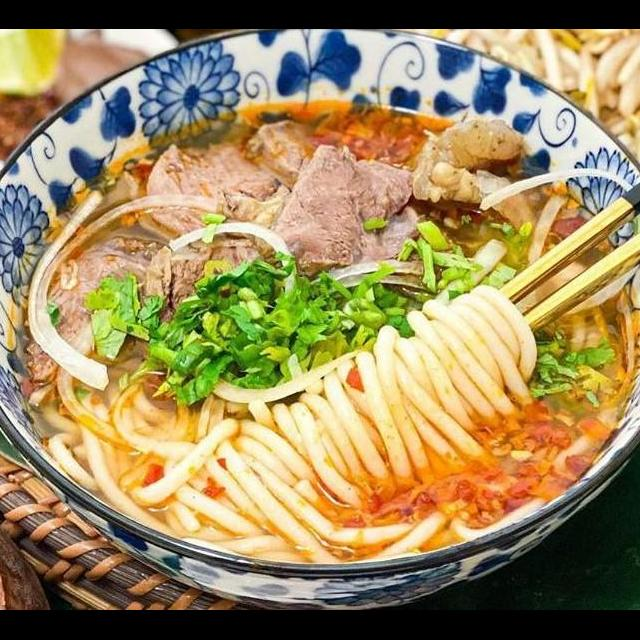bun: (30, 232, 568, 584)
bun bo: (0, 79, 604, 557)
thit bo: (133, 114, 374, 250), (6, 226, 164, 404), (256, 136, 427, 288), (136, 216, 278, 344)
